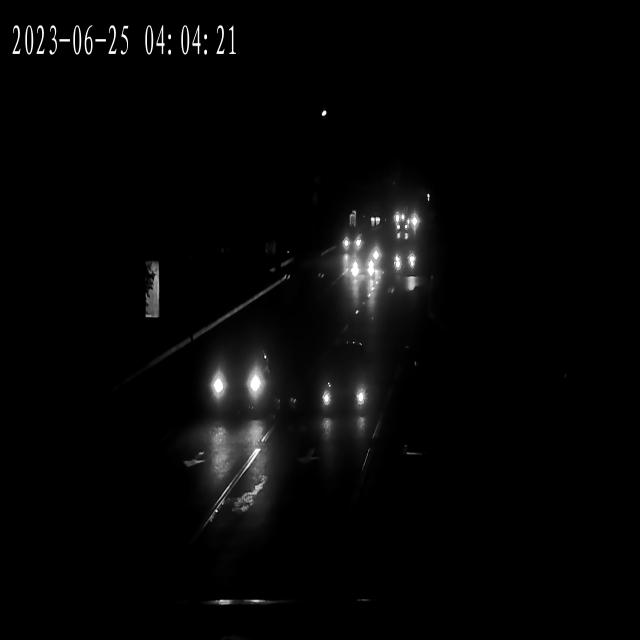Car: (193, 334, 271, 413), (316, 356, 375, 420), (347, 253, 379, 281), (348, 258, 380, 285), (393, 249, 418, 277), (338, 231, 366, 254), (394, 220, 413, 236), (396, 220, 416, 235), (406, 215, 422, 228)
